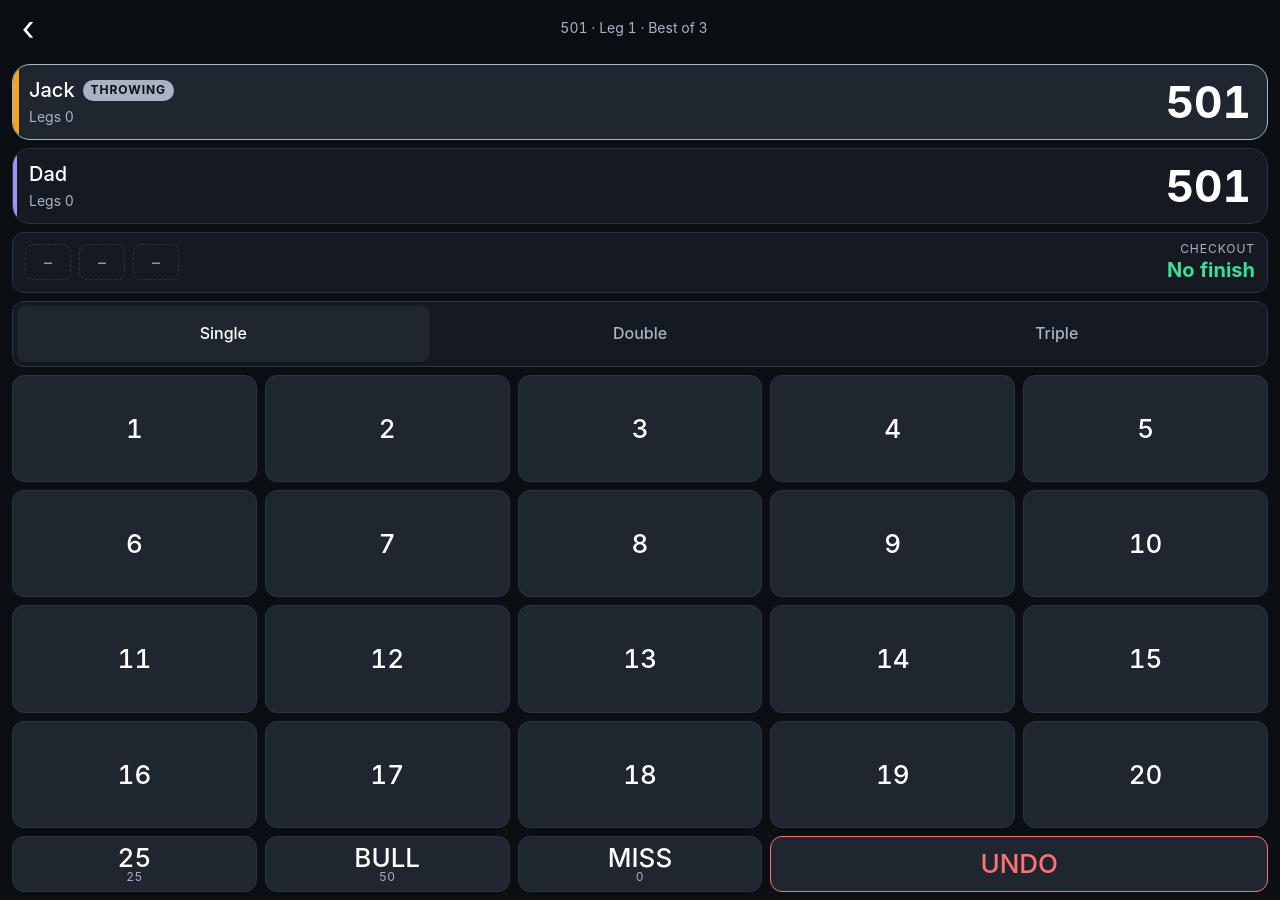
Scenario: undo › can be retried when the request never got an answer
The image size is (1280, 900).
Click the button "UNDO" at (1019, 864), box [770,836,1268,892]
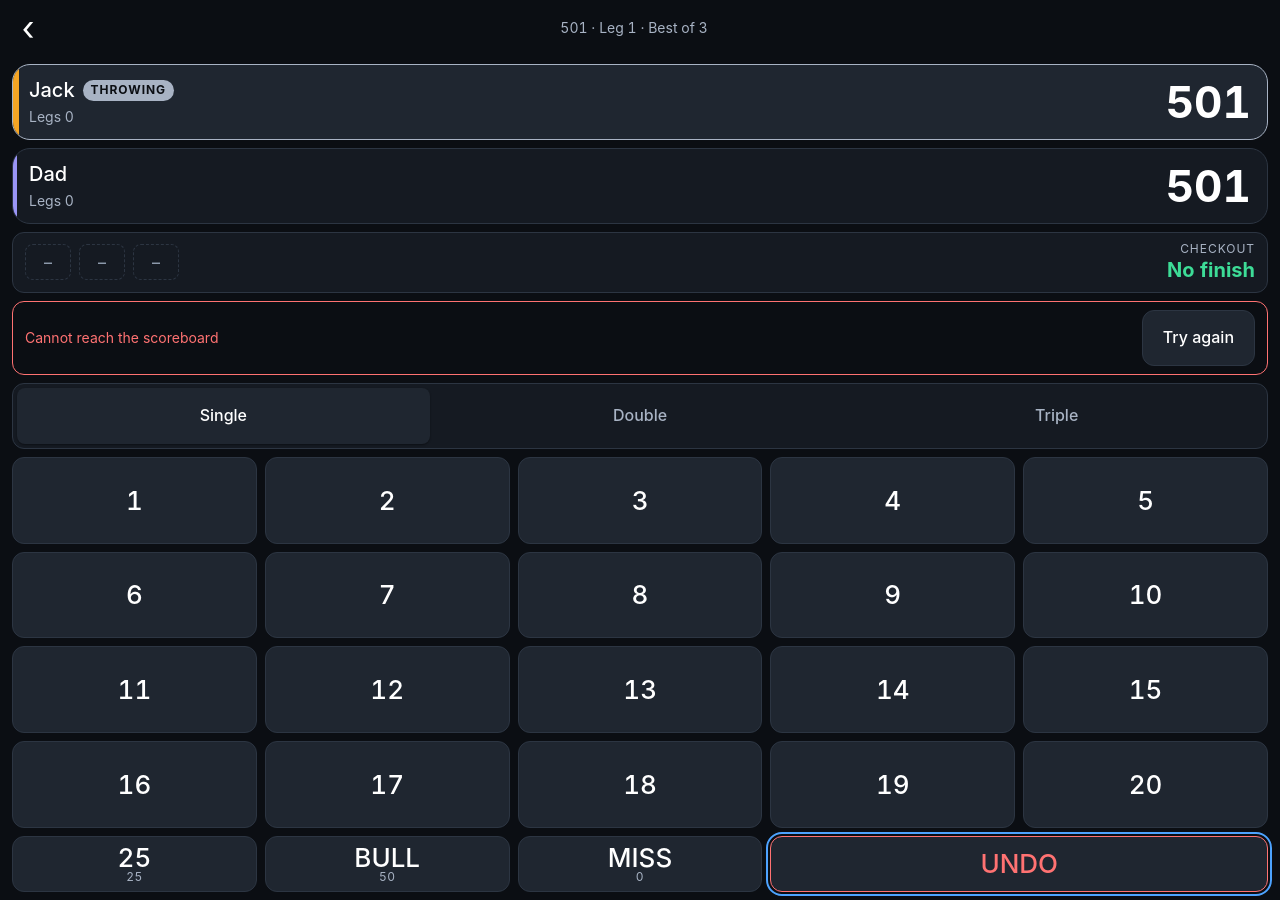
Check: the message shows "Cannot reach the scoreboard", box [25,328,218,346]
Click the button "Try again" at (1198, 338), box [1142,310,1255,366]
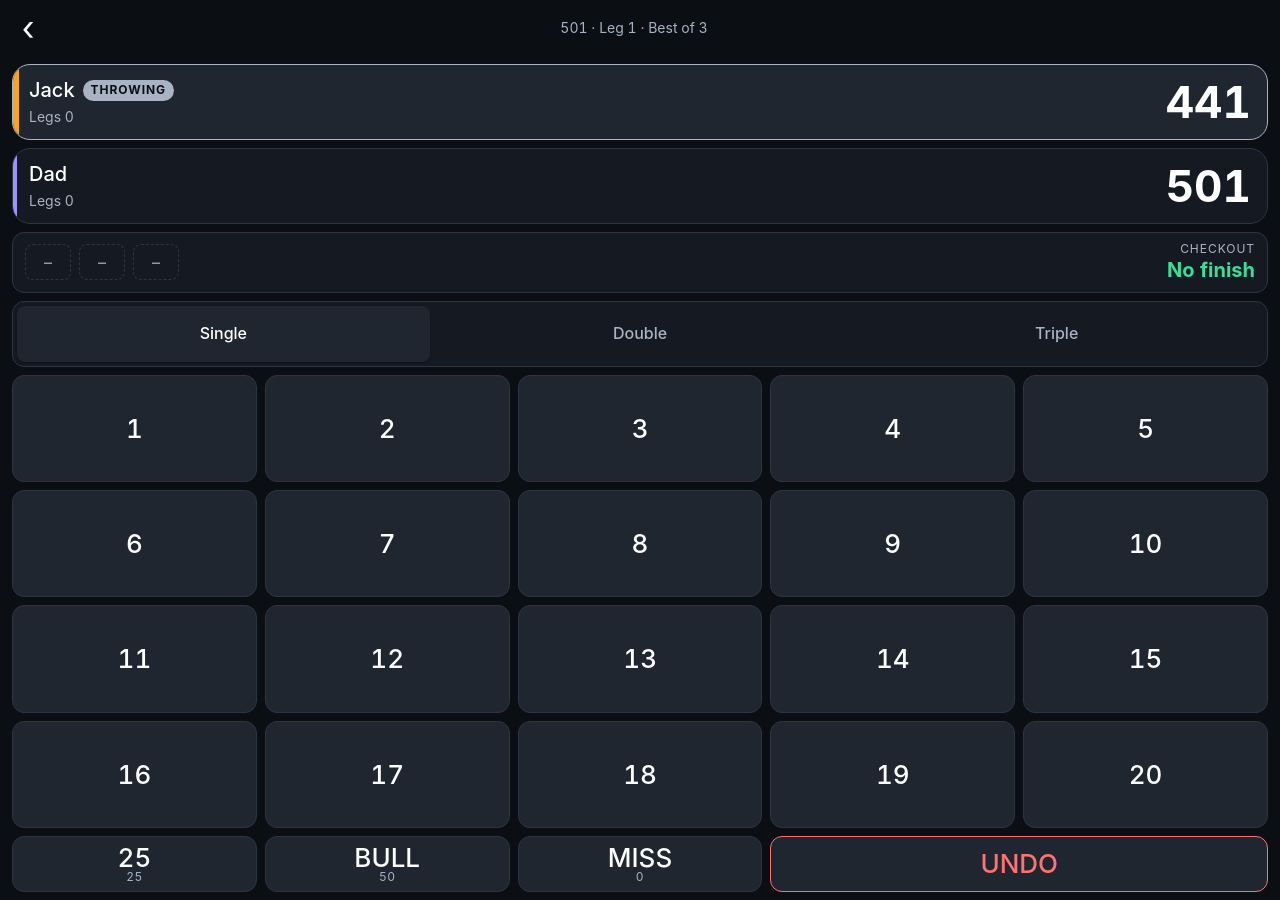
Check: the element named "Jack, 441 remaining, 0 legs won, throwing now" is shown, box [12,64,1268,140]
